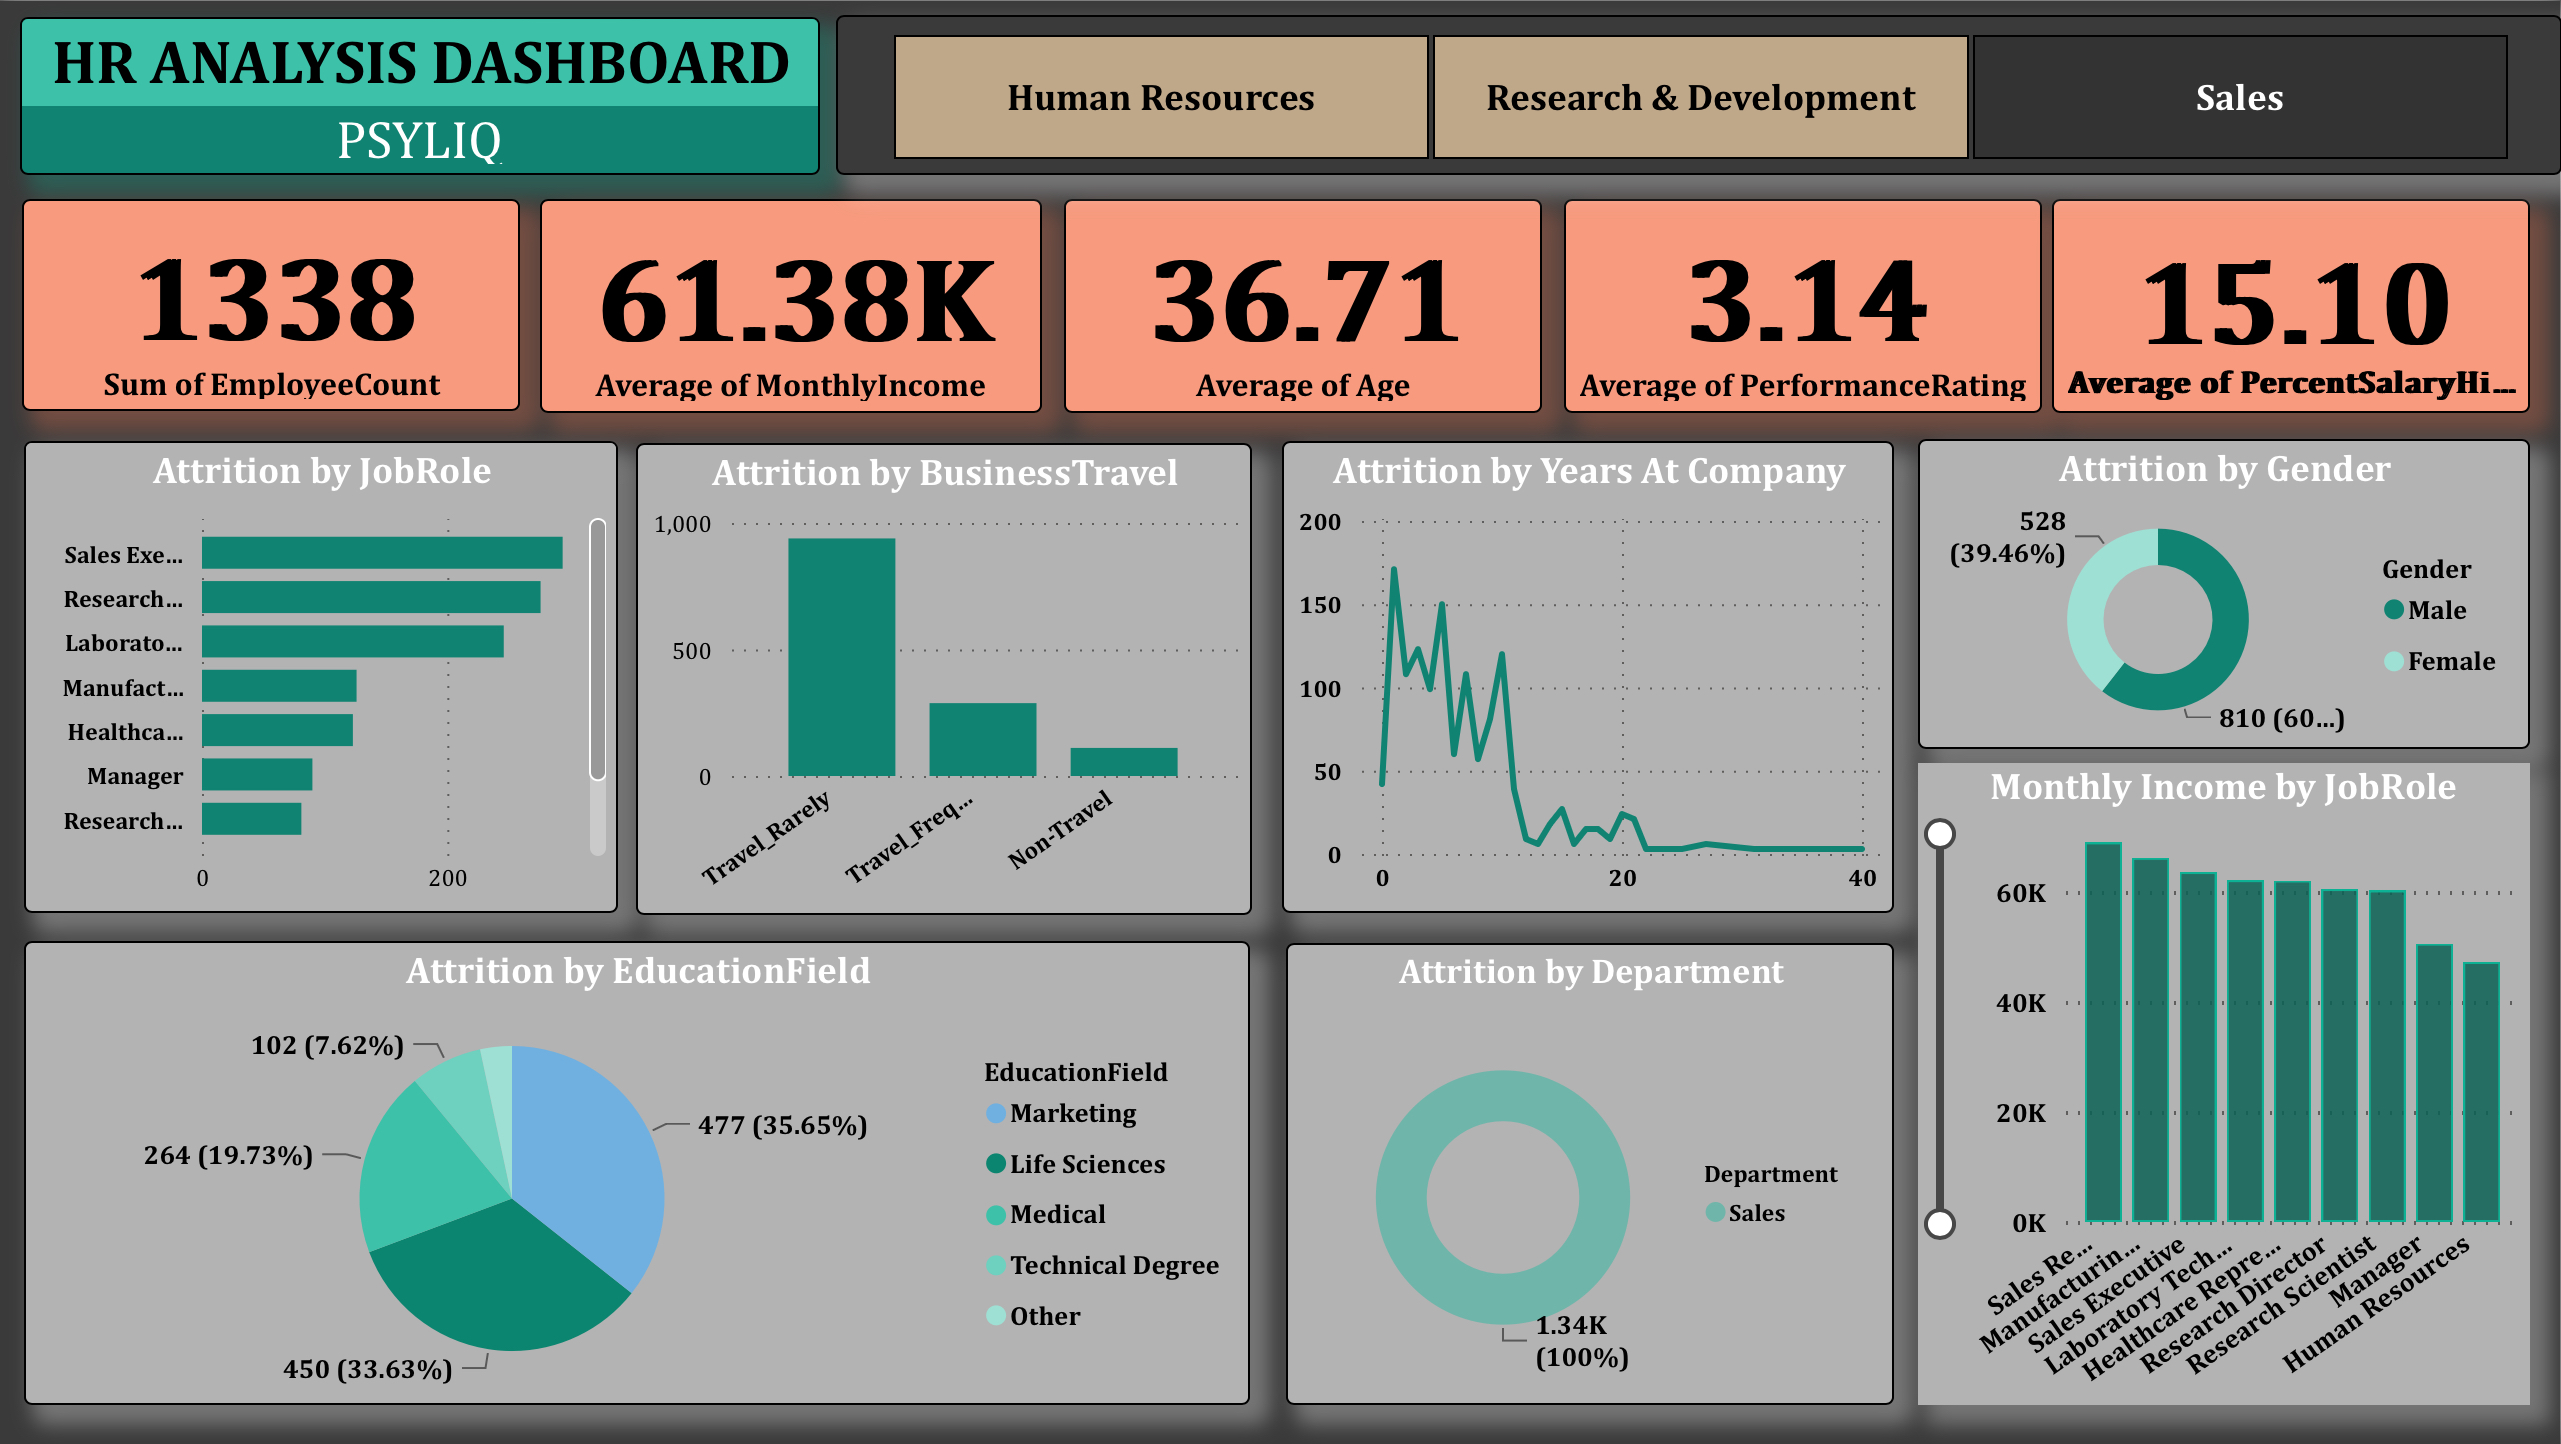

The dashboard page shown, as its layout file describes it:
{"tool":"powerbi","page":{"name":"HR ANALYSIS DASHDOARD","canvas":[1280,720],"ordinal":0},"visuals":[{"type":"textbox","title":"HR ANALYSIS DASHBOARD","box":[10.3,7.7,399.3,79.6],"z":0},{"type":"card","fields":{"Values":["Sum(general_data.EmployeeCount)"]},"box":[11,98.8,249.4,106.6],"z":1000},{"type":"card","fields":{"Values":["Avg(general_data.MonthlyIncome)"]},"box":[270.1,98.8,251.1,107.1],"z":2000},{"type":"card","fields":{"Values":["Avg(general_data.Age)"]},"box":[532,98.8,239.2,107.1],"z":3000},{"type":"card","fields":{"Values":["Avg(manager_survey_data.PerformanceRating)"]},"box":[781.9,98.8,239.2,107.1],"z":4000},{"type":"card","fields":{"Values":["Avg(general_data.PercentSalaryHike)"]},"box":[1025.9,98.8,239.2,107.1],"z":5000},{"type":"clusteredBarChart","title":"Attrition by JobRole","fields":{"Category":["general_data.JobRole"],"Y":["CountNonNull(general_data.Attrition)"]},"box":[11.6,219.5,297.9,236.2],"z":6000},{"type":"clusteredColumnChart","title":"Attrition by BusinessTravel","fields":{"Y":["CountNonNull(general_data.Attrition)"],"Category":["general_data.BusinessTravel"]},"box":[318.4,219.6,307.4,236.8],"z":7000},{"type":"lineChart","title":"Attrition by Years At Company","fields":{"Category":["general_data.YearsAtCompany"],"Y":["CountNonNull(general_data.Attrition)"]},"box":[641.4,219.6,305.8,236.8],"z":8000},{"type":"donutChart","title":"Attrition by Gender","fields":{"Y":["CountNonNull(general_data.Attrition)"],"Category":["general_data.Gender"]},"box":[959.2,219,305.9,154.7],"z":9000},{"type":"slicer","fields":{"Values":["general_data.Department"]},"box":[417.7,7.1,862.8,79.7],"z":10000},{"type":"pieChart","title":"Attrition by EducationField","fields":{"Y":["CountNonNull(general_data.Attrition)"],"Category":["general_data.EducationField"]},"box":[11.6,469.9,613.7,232.4],"z":11000},{"type":"donutChart","title":"Attrition by Department","fields":{"Y":["CountNonNull(general_data.Attrition)"],"Category":["general_data.Department"]},"box":[643.2,471.2,304.3,231.1],"z":12000},{"type":"clusteredColumnChart","title":"Monthly Income by JobRole","fields":{"Category":["general_data.JobRole"],"Y":["Avg(general_data.MonthlyIncome)"]},"box":[959.2,380.8,305.9,321.3],"z":13000}]}

Visuals, with their boxes in screenshot pixels (x1, y1, x2, y2), scaled from the page's 1280x720 canvas onto the 2561x1444 screenshot:
"HR ANALYSIS DASHBOARD" textbox: 21:15:820:175
card - Sum(general_data.EmployeeCount): 22:198:521:412
card - Avg(general_data.MonthlyIncome): 540:198:1043:413
card - Avg(general_data.Age): 1064:198:1543:413
card - Avg(manager_survey_data.PerformanceRating): 1564:198:2043:413
card - Avg(general_data.PercentSalaryHike): 2053:198:2531:413
"Attrition by JobRole" clusteredBarChart: 23:440:619:914
"Attrition by BusinessTravel" clusteredColumnChart: 637:440:1252:915
"Attrition by Years At Company" lineChart: 1283:440:1895:915
"Attrition by Gender" donutChart: 1919:439:2531:749
slicer - general_data.Department: 836:14:2560:174
"Attrition by EducationField" pieChart: 23:942:1251:1409
"Attrition by Department" donutChart: 1287:945:1896:1409
"Monthly Income by JobRole" clusteredColumnChart: 1919:764:2531:1408
